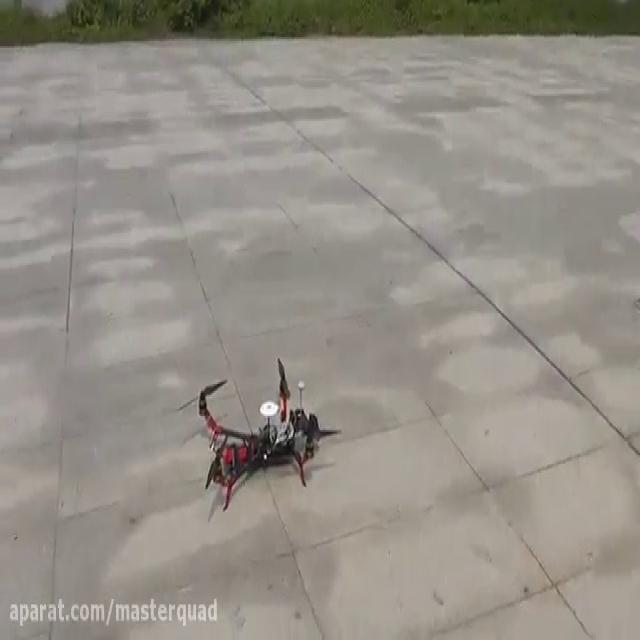drone: (174, 352, 344, 523)
